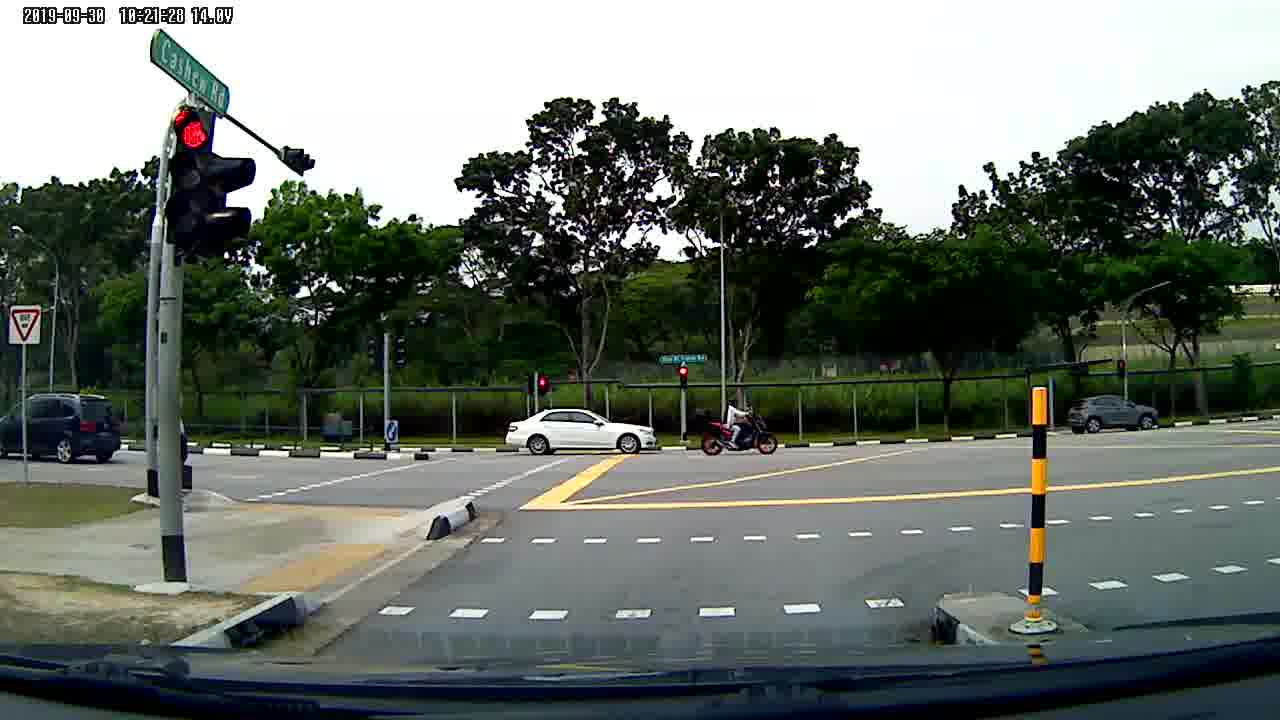car: (1, 391, 125, 466), (500, 407, 656, 456), (1066, 392, 1159, 440)
